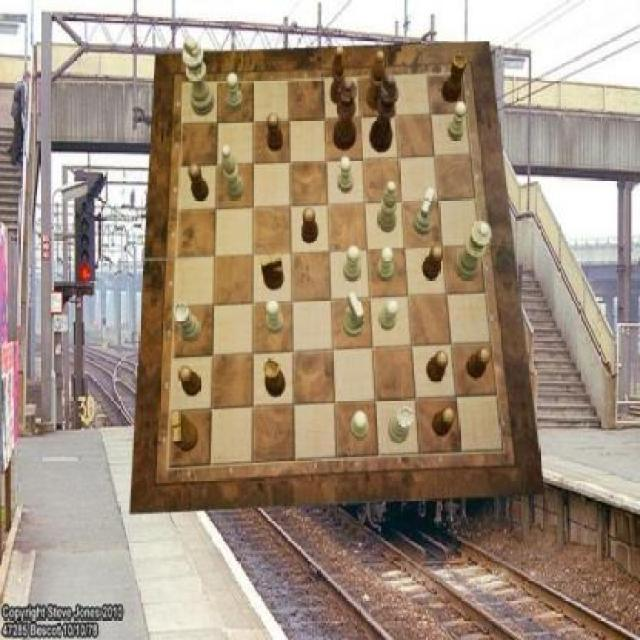bishop: (366, 51, 386, 111), (331, 46, 348, 106)
black-bishop: (371, 74, 400, 154)
black-king: (170, 411, 198, 452), (260, 252, 285, 291)
black-knight: (468, 348, 492, 380), (432, 406, 456, 437), (189, 165, 209, 202), (180, 364, 203, 396), (426, 351, 449, 383), (422, 245, 442, 279), (268, 114, 284, 152), (303, 208, 320, 242)
black-pawn: (332, 80, 356, 152)
black-queen: (443, 54, 468, 103), (265, 358, 287, 397)
black-rook: (223, 144, 246, 200), (377, 181, 397, 234)
white-bishop: (182, 37, 214, 117)
white-king: (412, 189, 435, 237), (343, 292, 365, 338)
white-knight: (266, 299, 286, 333), (378, 300, 399, 332), (343, 246, 361, 282), (448, 102, 465, 140), (377, 248, 394, 282), (338, 157, 354, 193), (228, 74, 243, 112), (351, 411, 368, 438)
white-pawn: (454, 220, 491, 282)
white-queen: (174, 303, 201, 343), (389, 406, 414, 444)
